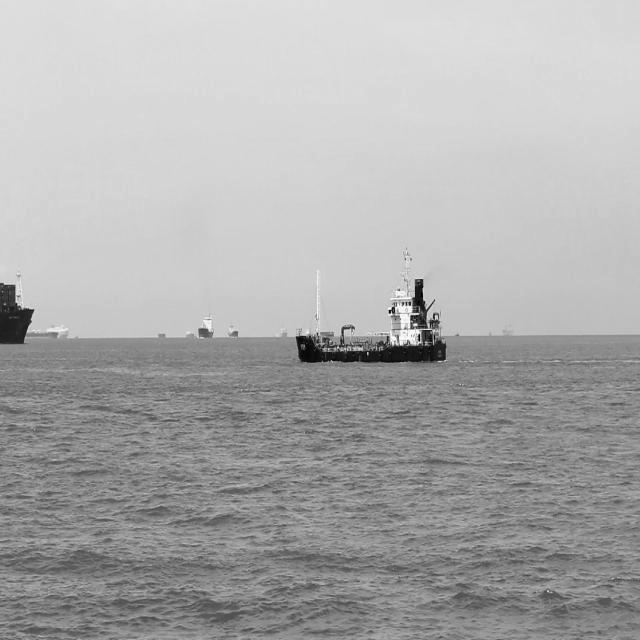ship: (296, 241, 450, 368), (0, 266, 36, 350), (28, 320, 70, 340), (198, 310, 217, 342), (273, 323, 290, 345), (500, 322, 518, 340), (227, 319, 240, 343), (185, 328, 198, 344), (156, 326, 168, 342)
